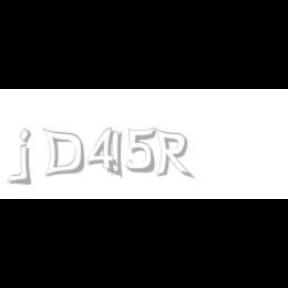4: (86, 128, 118, 174)
5: (125, 128, 156, 174)
D: (42, 128, 84, 178)
R: (154, 128, 192, 180)
j: (16, 128, 46, 186)
l: (111, 128, 127, 180)
